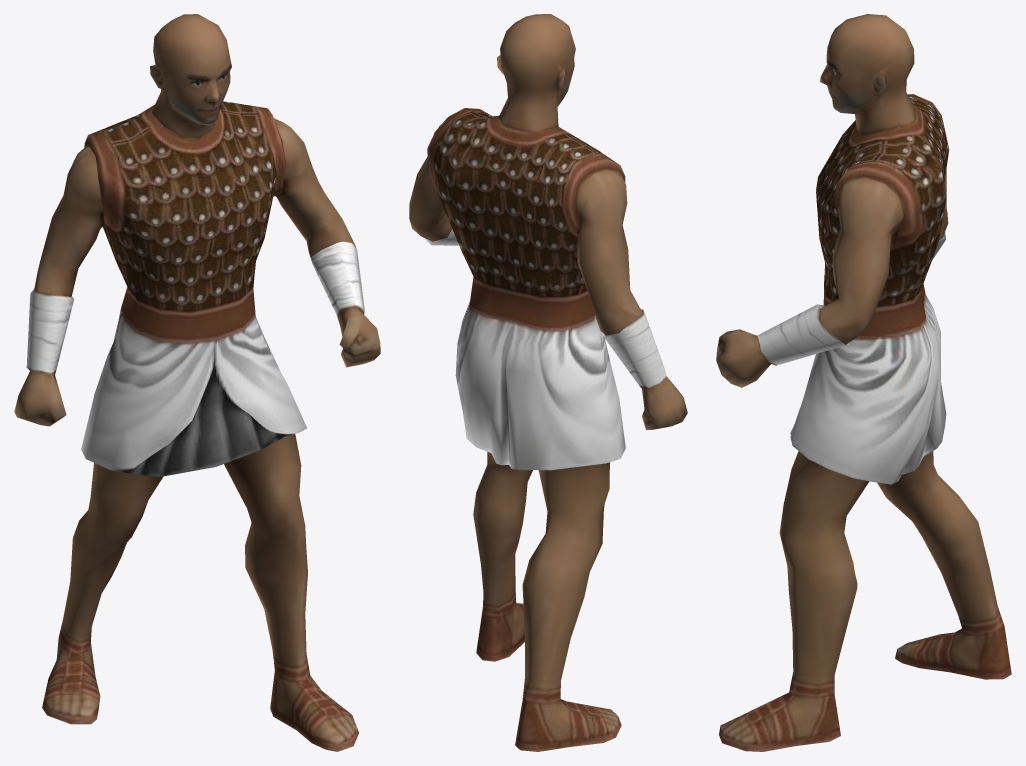
Rendered from body-mediumspearmen.glb.
3 views of the same model, side by side, from view 1: azimuth 30°, elevation 25°; view 2: azimuth 150°, elevation 25°; view 3: azimuth 270°, elevation 25° (orthographic). The views are drawn at different scales.
Size of the model in its own units: 0.9235 by 2.02 by 0.7907.
Materials: 1 (1 with a texture image).
